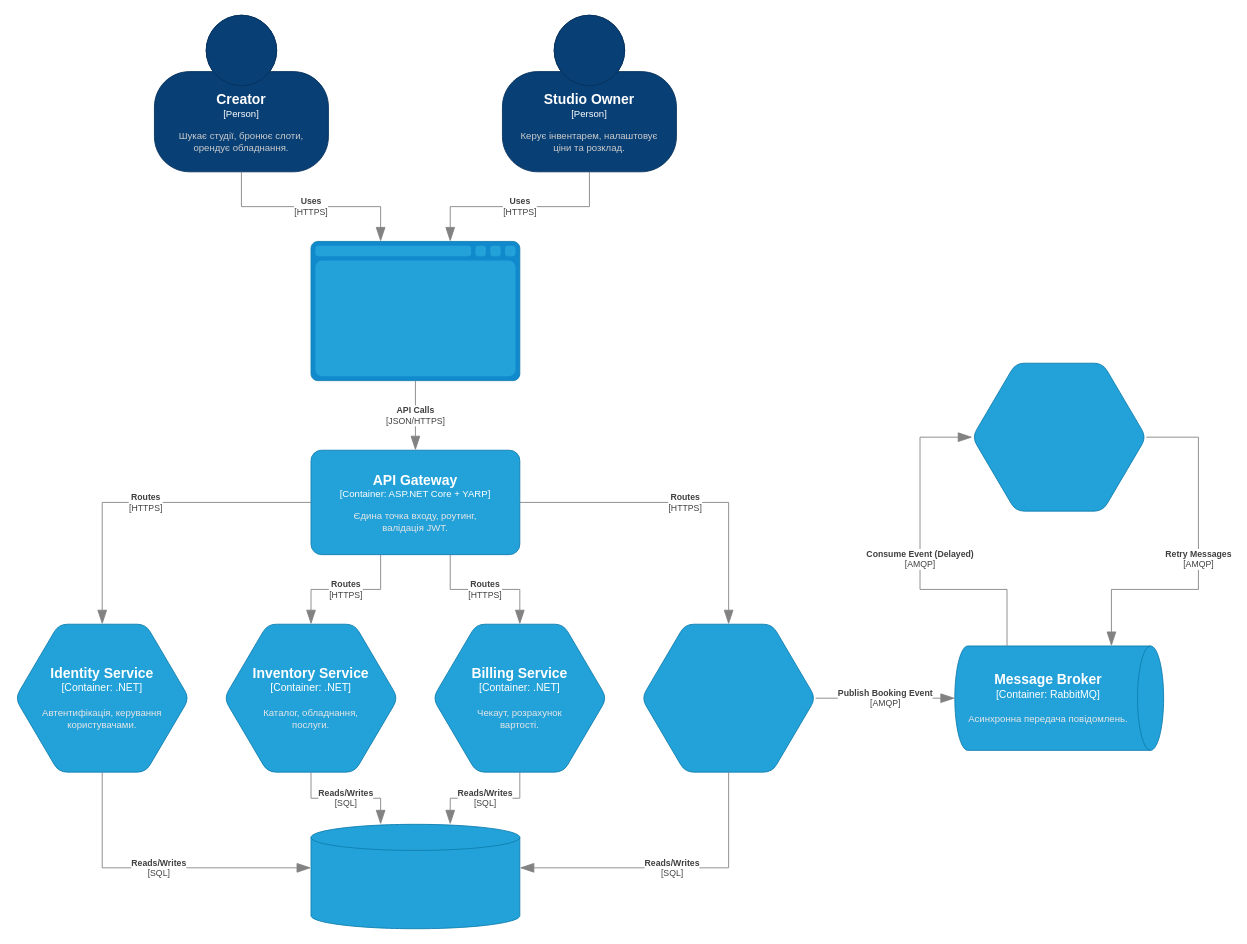
The diagram is 1247 pixels wide and 944 high, and some of its shapes have lost their labels. Each missing label, with the box of its shape:
Notification Service [Container: .NET] Відправка SMS.: (971, 362, 1146, 511)
Relational DB [Container: PostgreSQL] Ізольовані схеми для мікросервісів.: (310, 823, 520, 929)
Scheduling Service [Container: .NET] Слоти, інтеграція з Google Calendar.: (641, 623, 816, 772)
Web Application [Container: React] Клієнтський SPA.: (310, 241, 520, 381)
